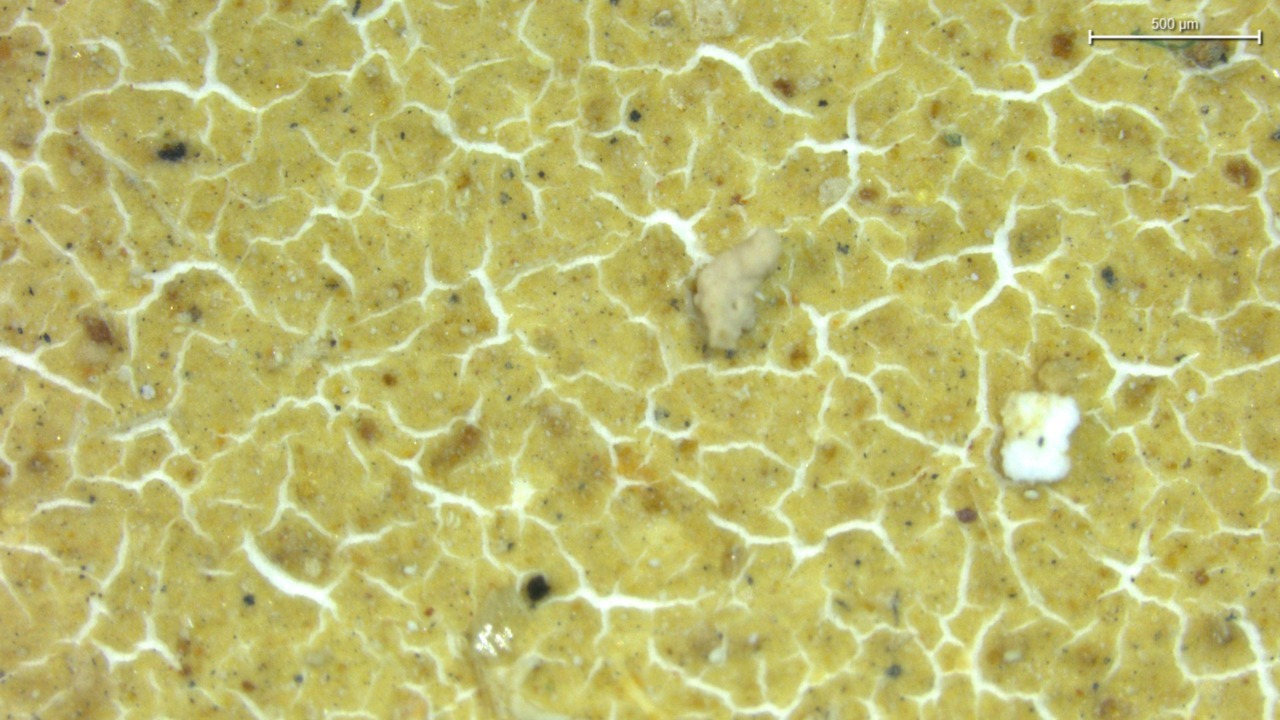microplastic_fragment: (693, 227, 781, 351), (1001, 392, 1080, 484)
